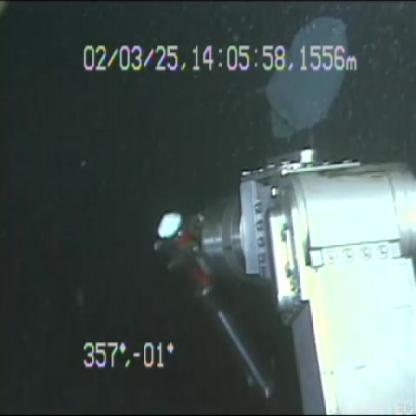Rov: (131, 123, 416, 413)
Rác: (262, 14, 354, 134)
